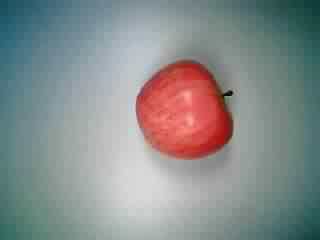apple: (134, 56, 240, 160)
